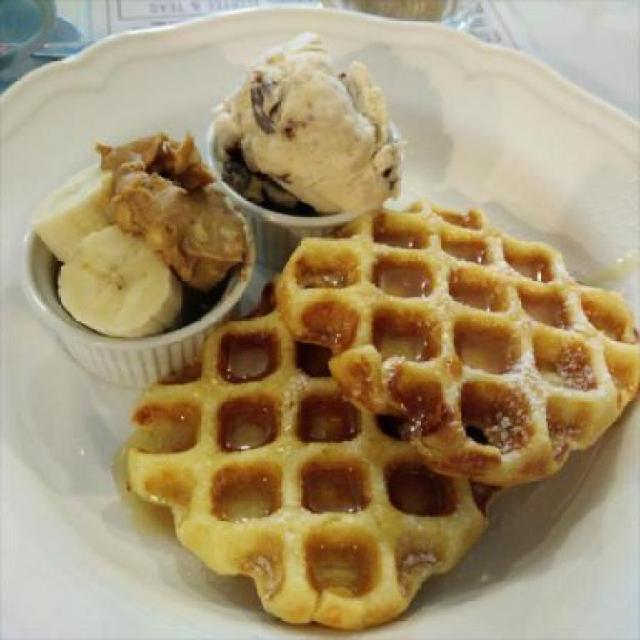Waffle: (128, 272, 524, 632), (271, 195, 640, 488)
